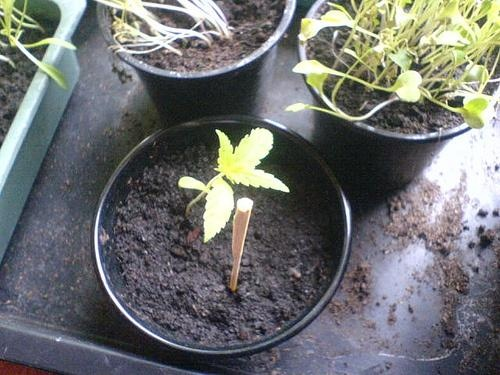pottedplant: (93, 114, 351, 360), (294, 1, 500, 196), (1, 2, 89, 301), (95, 1, 299, 124)
